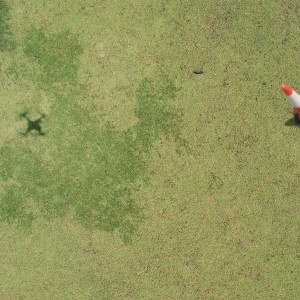traffic cone: (279, 83, 300, 126)
